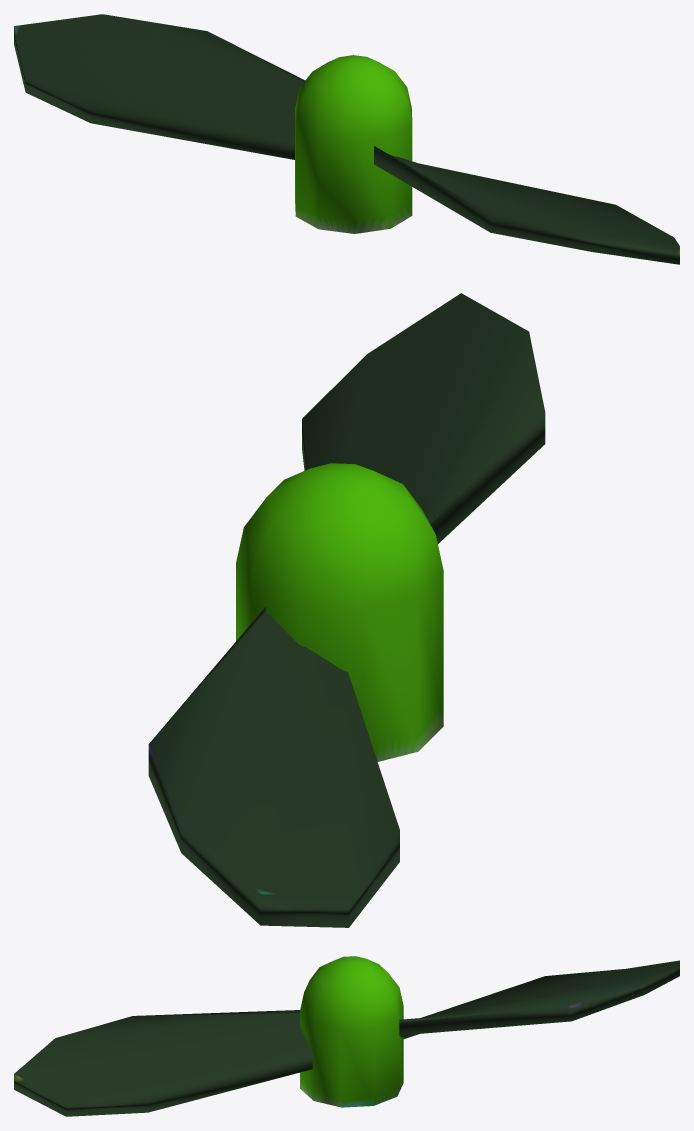
Rendered from SM_Dron_SM_D_Propeller.fbx.
3 views of the same model, one above another, from view 1: azimuth 30°, elevation 25°; view 2: azimuth 150°, elevation 25°; view 3: azimuth 270°, elevation 25° (orthographic). The views are drawn at different scales.
Parts seen in each view (by area): view 1: SM_Dron_SM_D_Propeller; view 2: SM_Dron_SM_D_Propeller; view 3: SM_Dron_SM_D_Propeller.
Part boxes in pixels (left/top/right/bottom): SM_Dron_SM_D_Propeller: left=14, top=14, right=679, bottom=264; SM_Dron_SM_D_Propeller: left=148, top=293, right=545, bottom=927; SM_Dron_SM_D_Propeller: left=14, top=956, right=679, bottom=1116.
Size of the model in its own units: 10.43 by 22.19 by 4.6.
